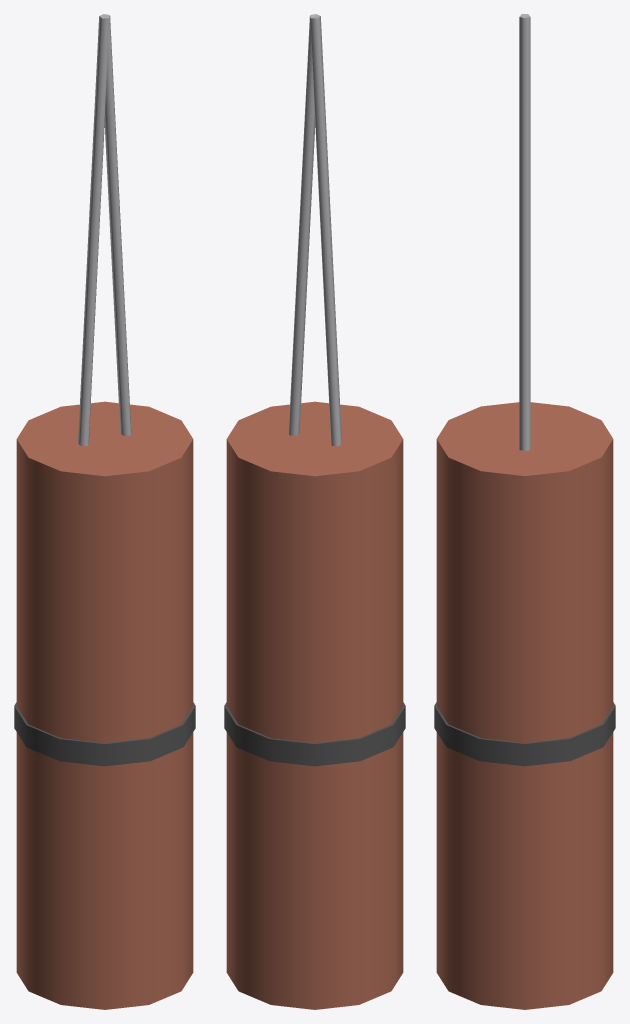
Rendered from heavy_bag.glb.
3 renders of one model, left to right at view 1: azimuth 30°, elevation 25°; view 2: azimuth 150°, elevation 25°; view 3: azimuth 270°, elevation 25°, orthographic.
Visible parts, largest first — view 1: HeavyBag; view 2: HeavyBag; view 3: HeavyBag.
Part boxes in pixels (box(x1,y1,x2,y2)): HeavyBag: box(14, 14, 195, 1009); HeavyBag: box(224, 14, 405, 1009); HeavyBag: box(434, 14, 615, 1009).
Bounding box in the file's own units: 0.37 × 2.15 × 0.37.
